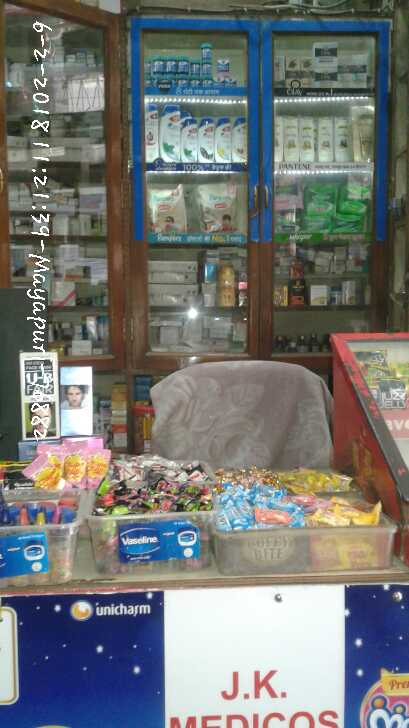vicks: (149, 38, 243, 91)
